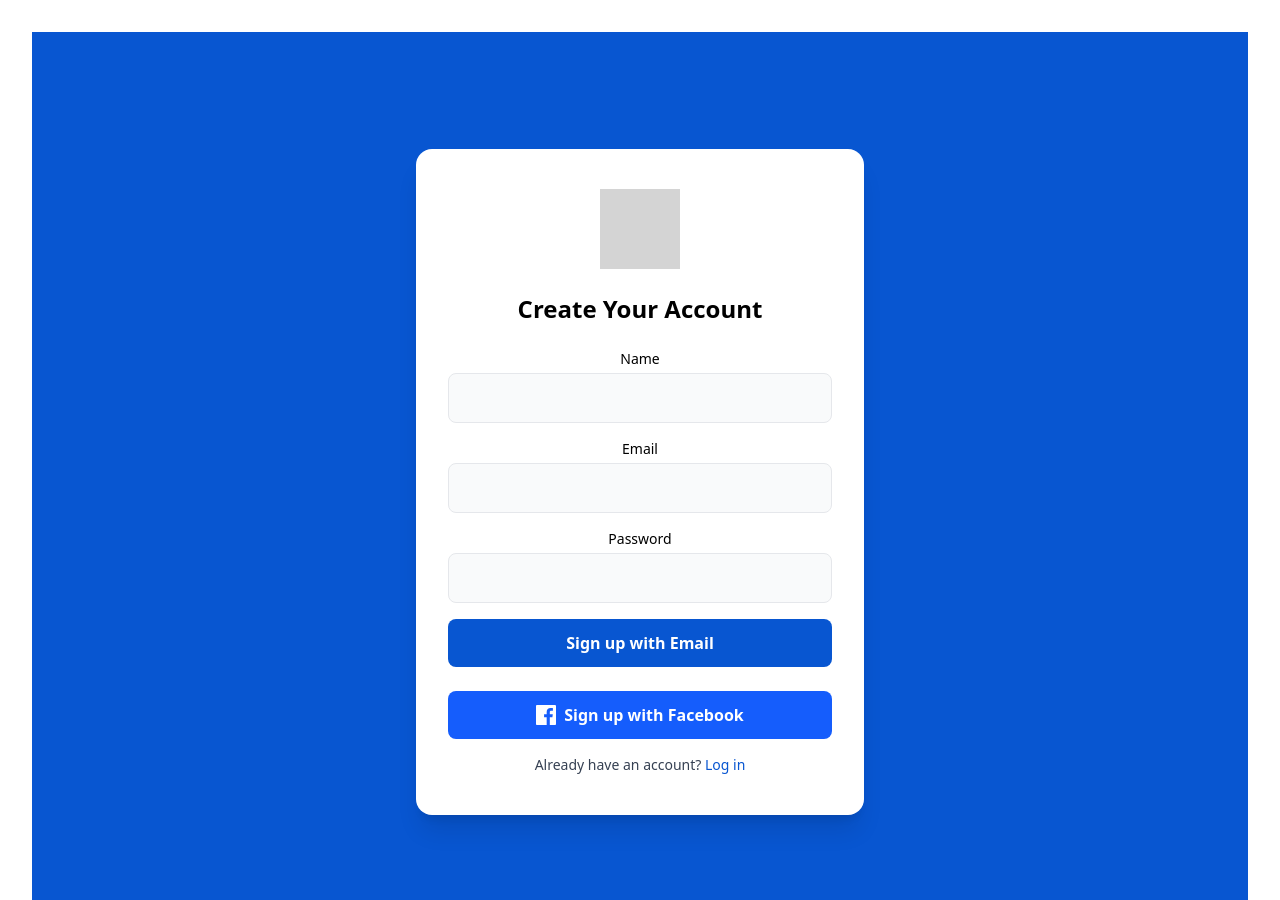
Scenario: Register › Form Validation › should clear validation errors when user starts typing
The image size is (1280, 900).
Note: Submit empty form to trigger errors
Click the button "Sign up with Email" at point(640, 643), box x1=448 y1=619 x2=832 y2=667
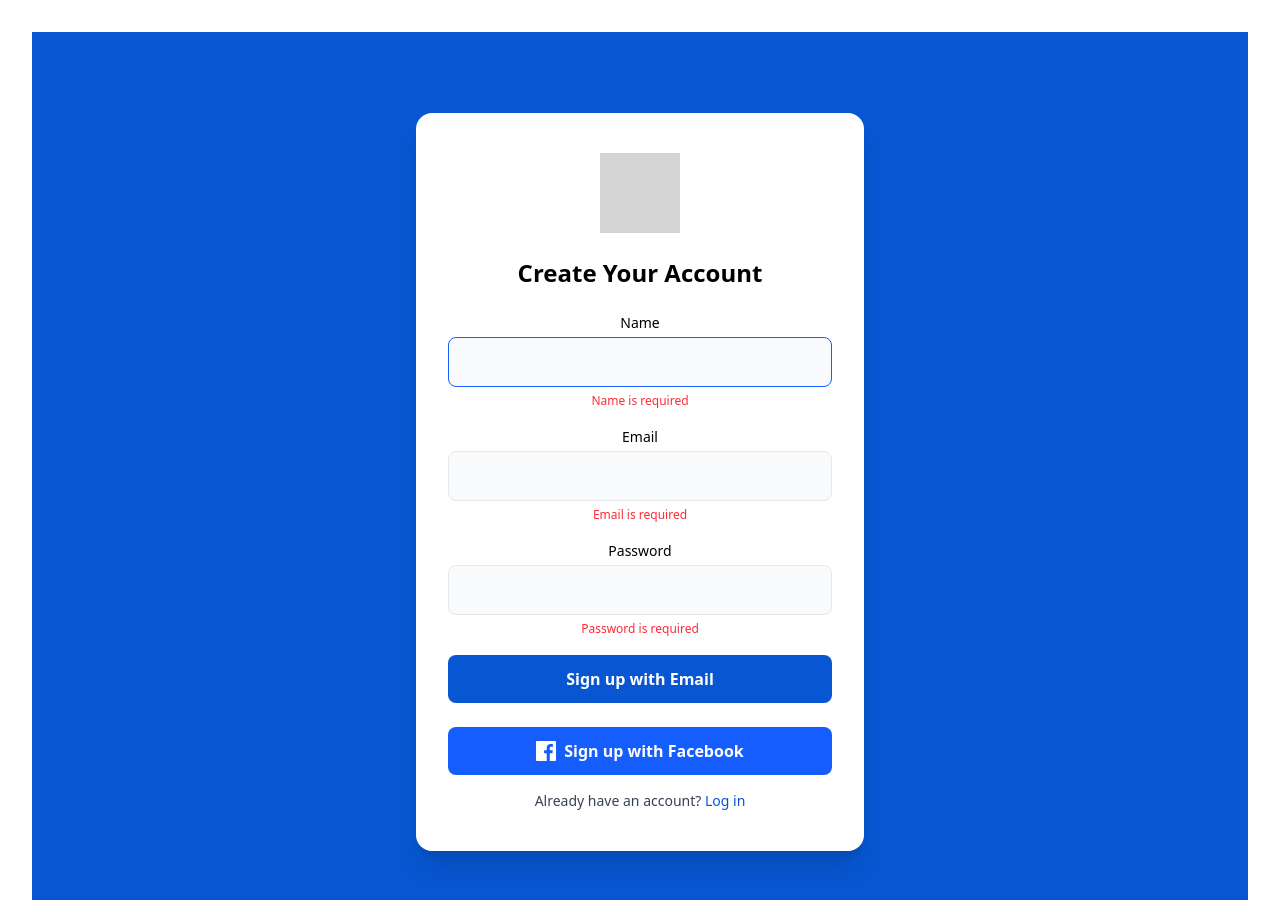
Now the text "Name is required" is shown, box x1=591 y1=392 x2=689 y2=409
Note: Start typing in fields - this should trigger validation and clear errors
Type "John Doe" into the field labelled "Name" at point(640, 362), box x1=448 y1=337 x2=832 y2=387
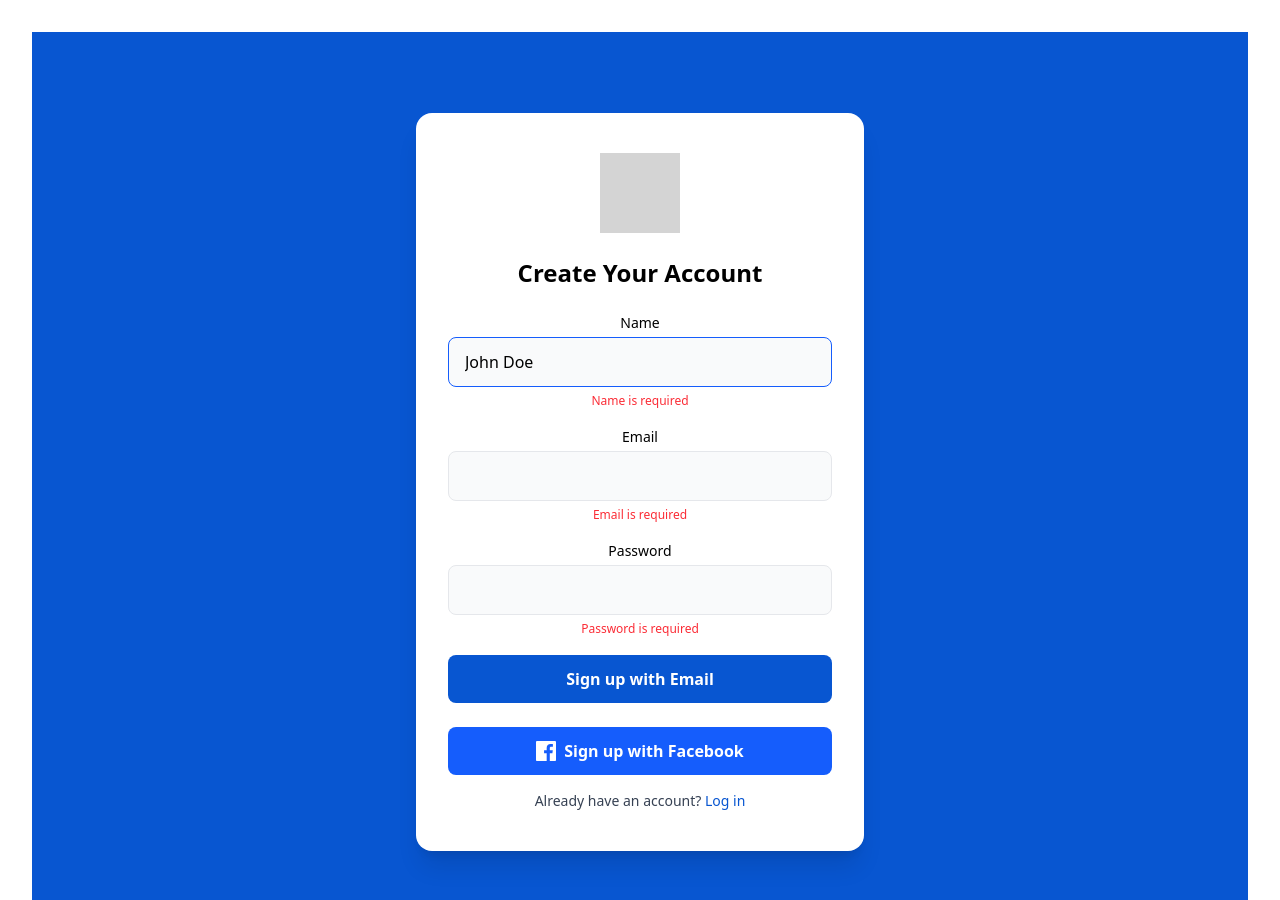
Type "john@example.com" into the field labelled "Email" at point(640, 476), box x1=448 y1=451 x2=832 y2=501
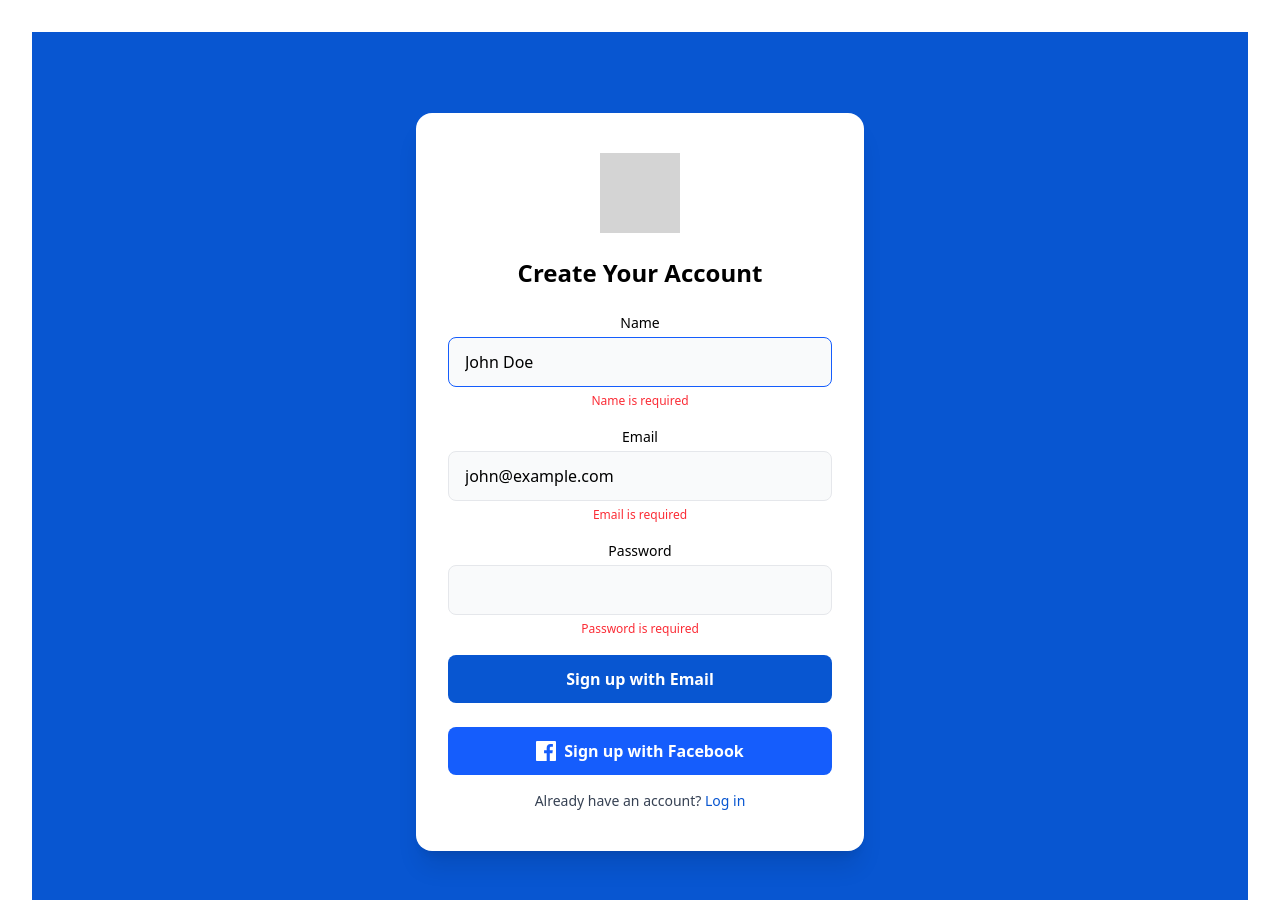
Type "password123" into the password field labelled "Password" at point(640, 590), box x1=448 y1=565 x2=832 y2=615
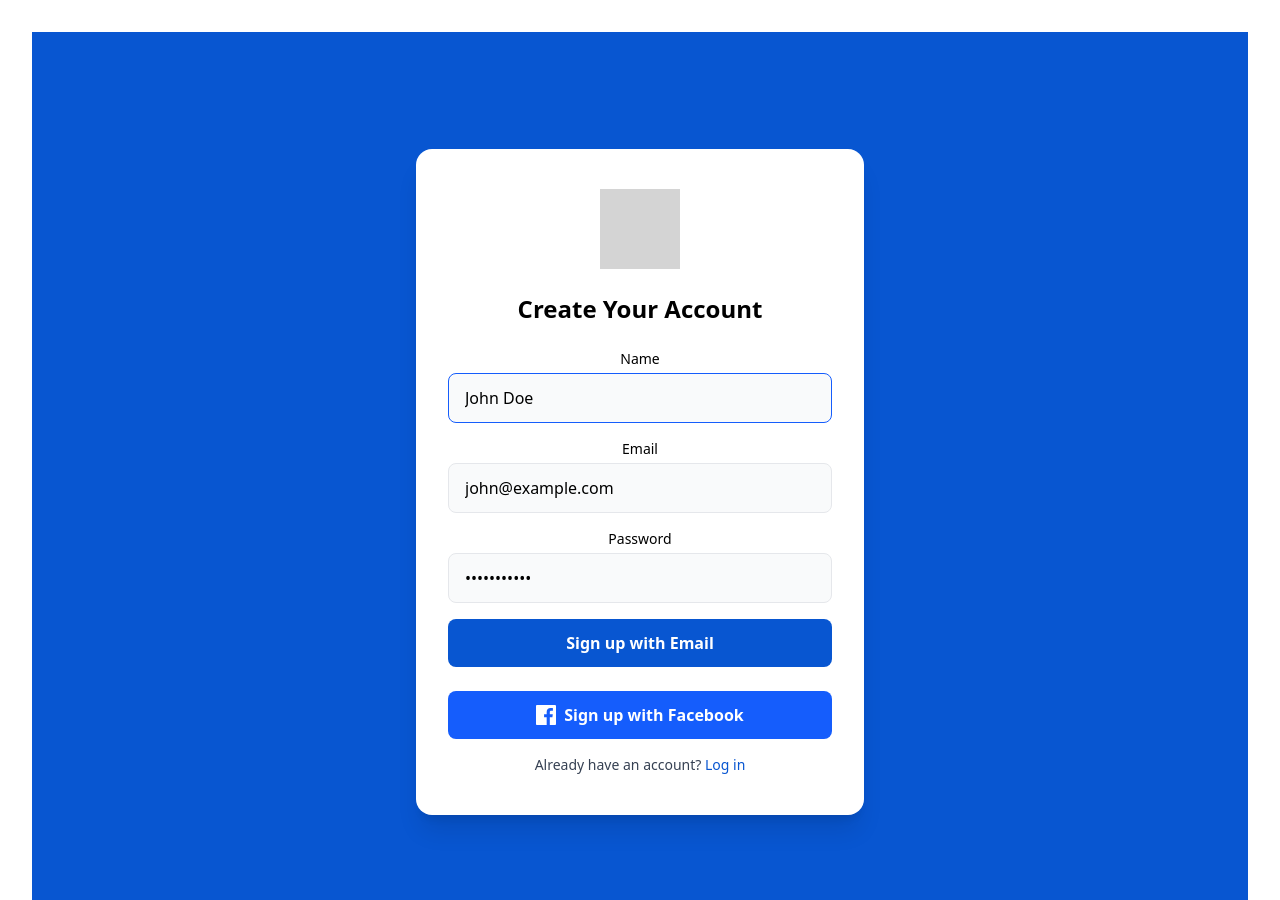
Now the text "Name is required" is gone
Now the text "Email is required" is gone
Now the text "Password is required" is gone
